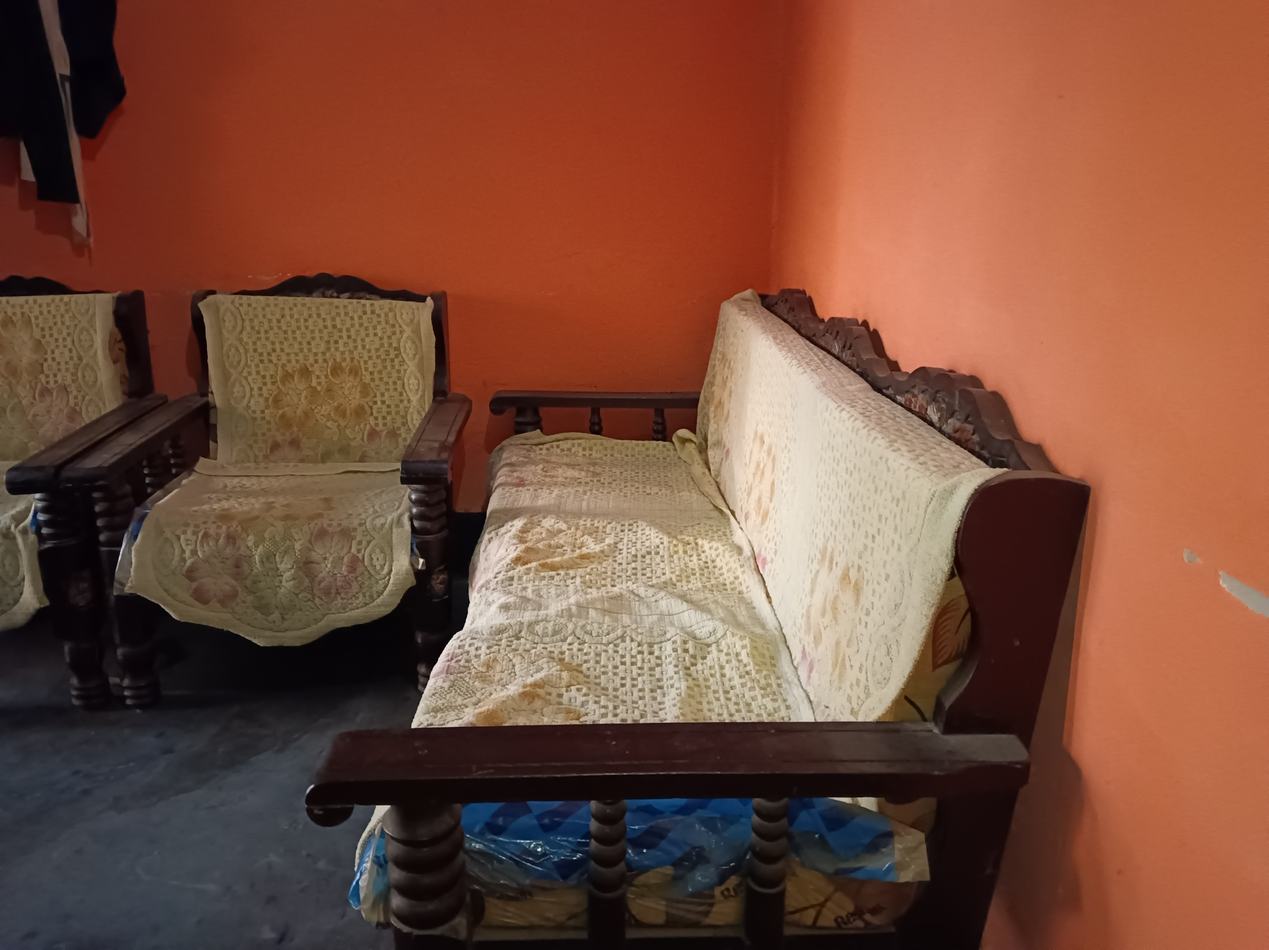sofa: (303, 282, 1093, 950), (76, 273, 474, 709), (0, 278, 170, 702)
